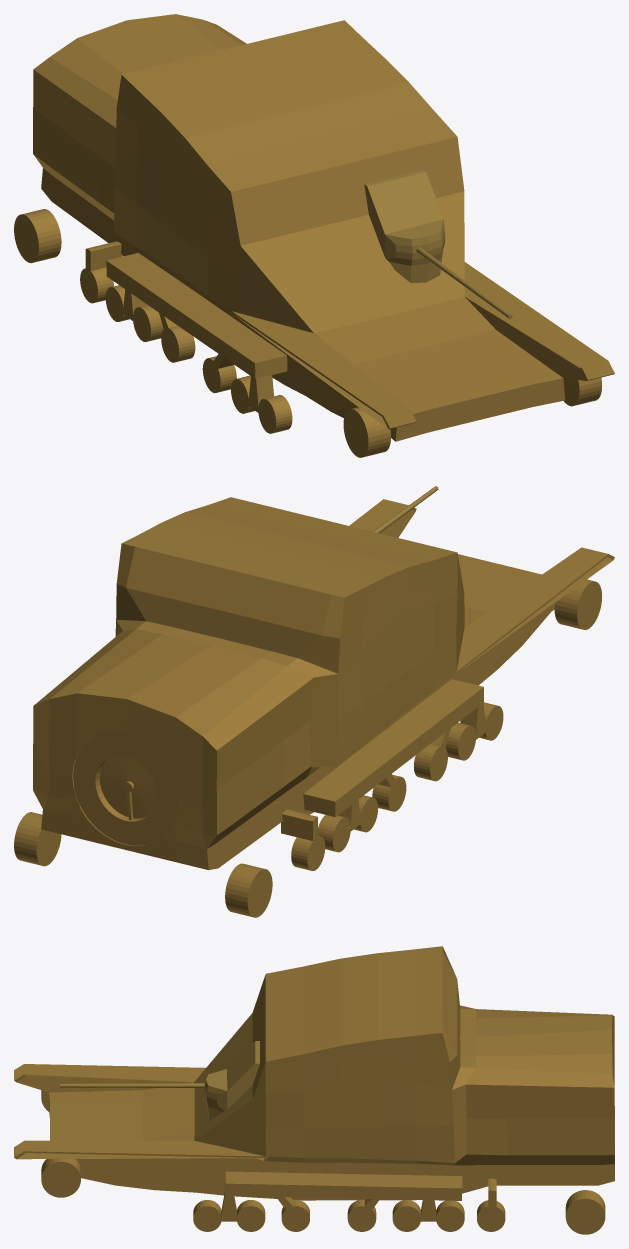
File: CCTank.gltf
3 renders of one model, top to bottom at view 1: azimuth 30°, elevation 25°; view 2: azimuth 150°, elevation 25°; view 3: azimuth 270°, elevation 25°, orthographic. The views are drawn at different scales.
Parts seen in each view (by area): view 1: Tank, Canon; view 2: Tank, Cube.001; view 3: Tank, Canon.
Boxes of the visible parts, x1,y1,x2,y2 form: Tank: [14, 14, 614, 457]; Canon: [364, 170, 512, 319]; Tank: [14, 497, 614, 917]; Cube.001: [73, 731, 178, 845]; Tank: [14, 946, 614, 1234]; Canon: [60, 1041, 259, 1120].
Bounding box in the file's own units: 4.4 × 4.52 × 12.3.
